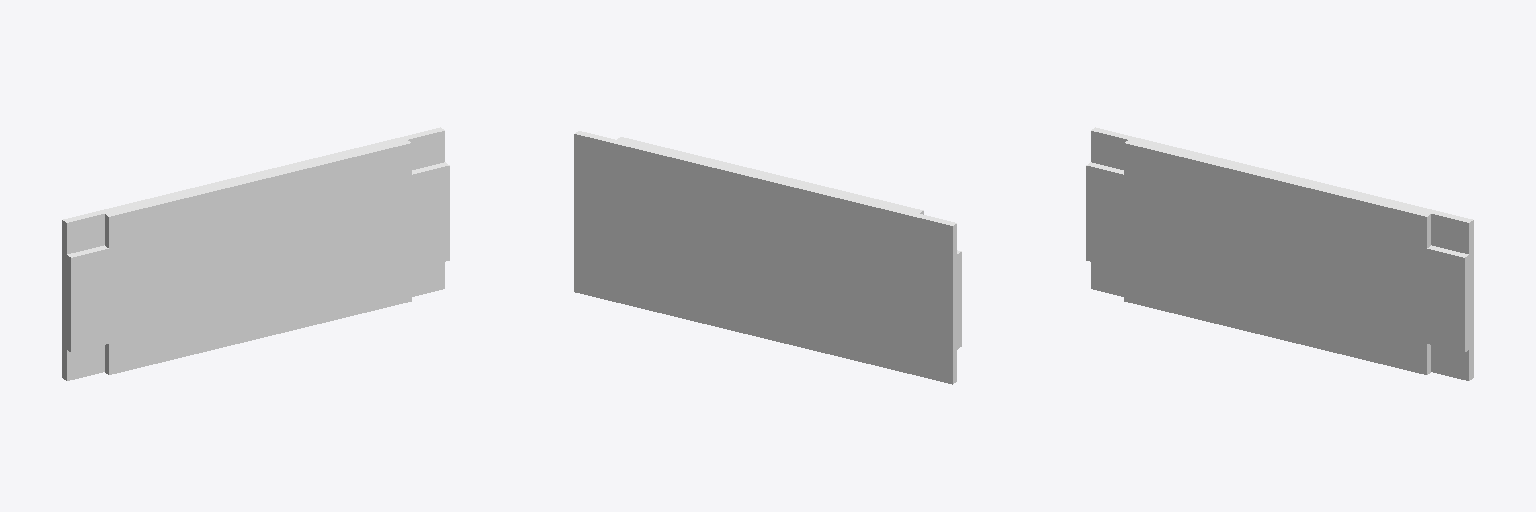
File: geneributton.obj
3 renders of one model, left to right at view 1: azimuth 30°, elevation 25°; view 2: azimuth 150°, elevation 25°; view 3: azimuth 330°, elevation 25°, orthographic.
Bounding box in the file's own units: 50 × 20 × 2.